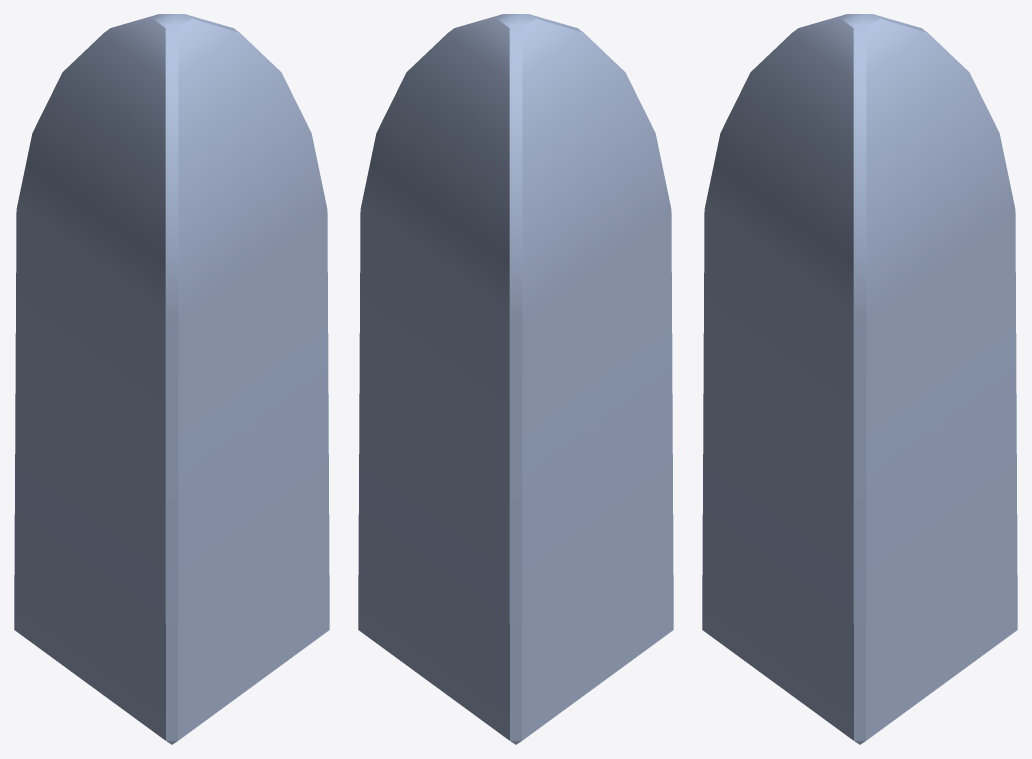
File: H_gebouw4.fbx
3 views of the same model, side by side, from view 1: azimuth 30°, elevation 25°; view 2: azimuth 150°, elevation 25°; view 3: azimuth 270°, elevation 25° (orthographic).
Visible parts, largest first — view 1: gebouw_4; view 2: gebouw_4; view 3: gebouw_4.
Part boxes in pixels (x1=…): gebouw_4: x1=14, y1=14, x2=329, y2=744; gebouw_4: x1=358, y1=14, x2=673, y2=744; gebouw_4: x1=702, y1=14, x2=1017, y2=744.
Size of the model in its own units: 6.9 by 18.24 by 7.97.
